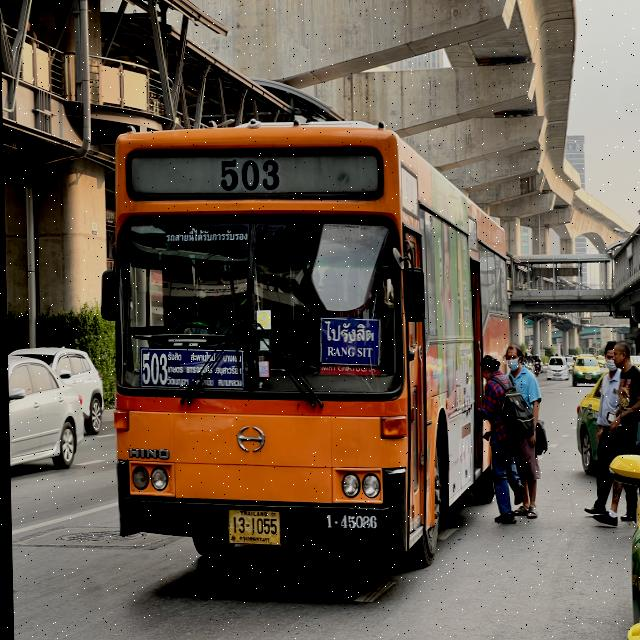BMTA-bus: (96, 107, 518, 582)
Bus-Line-Number: (204, 154, 296, 194)
Destination-Sign-Normal: (319, 318, 379, 370)
